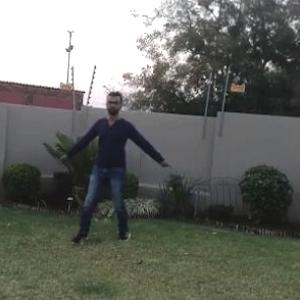land: (70, 95, 168, 225)
